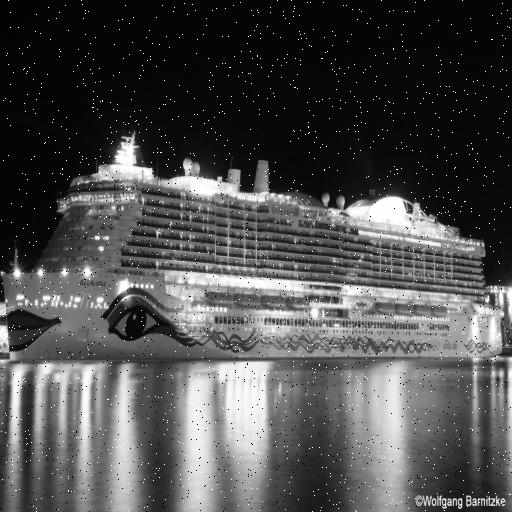cruises: (1, 131, 504, 368)
